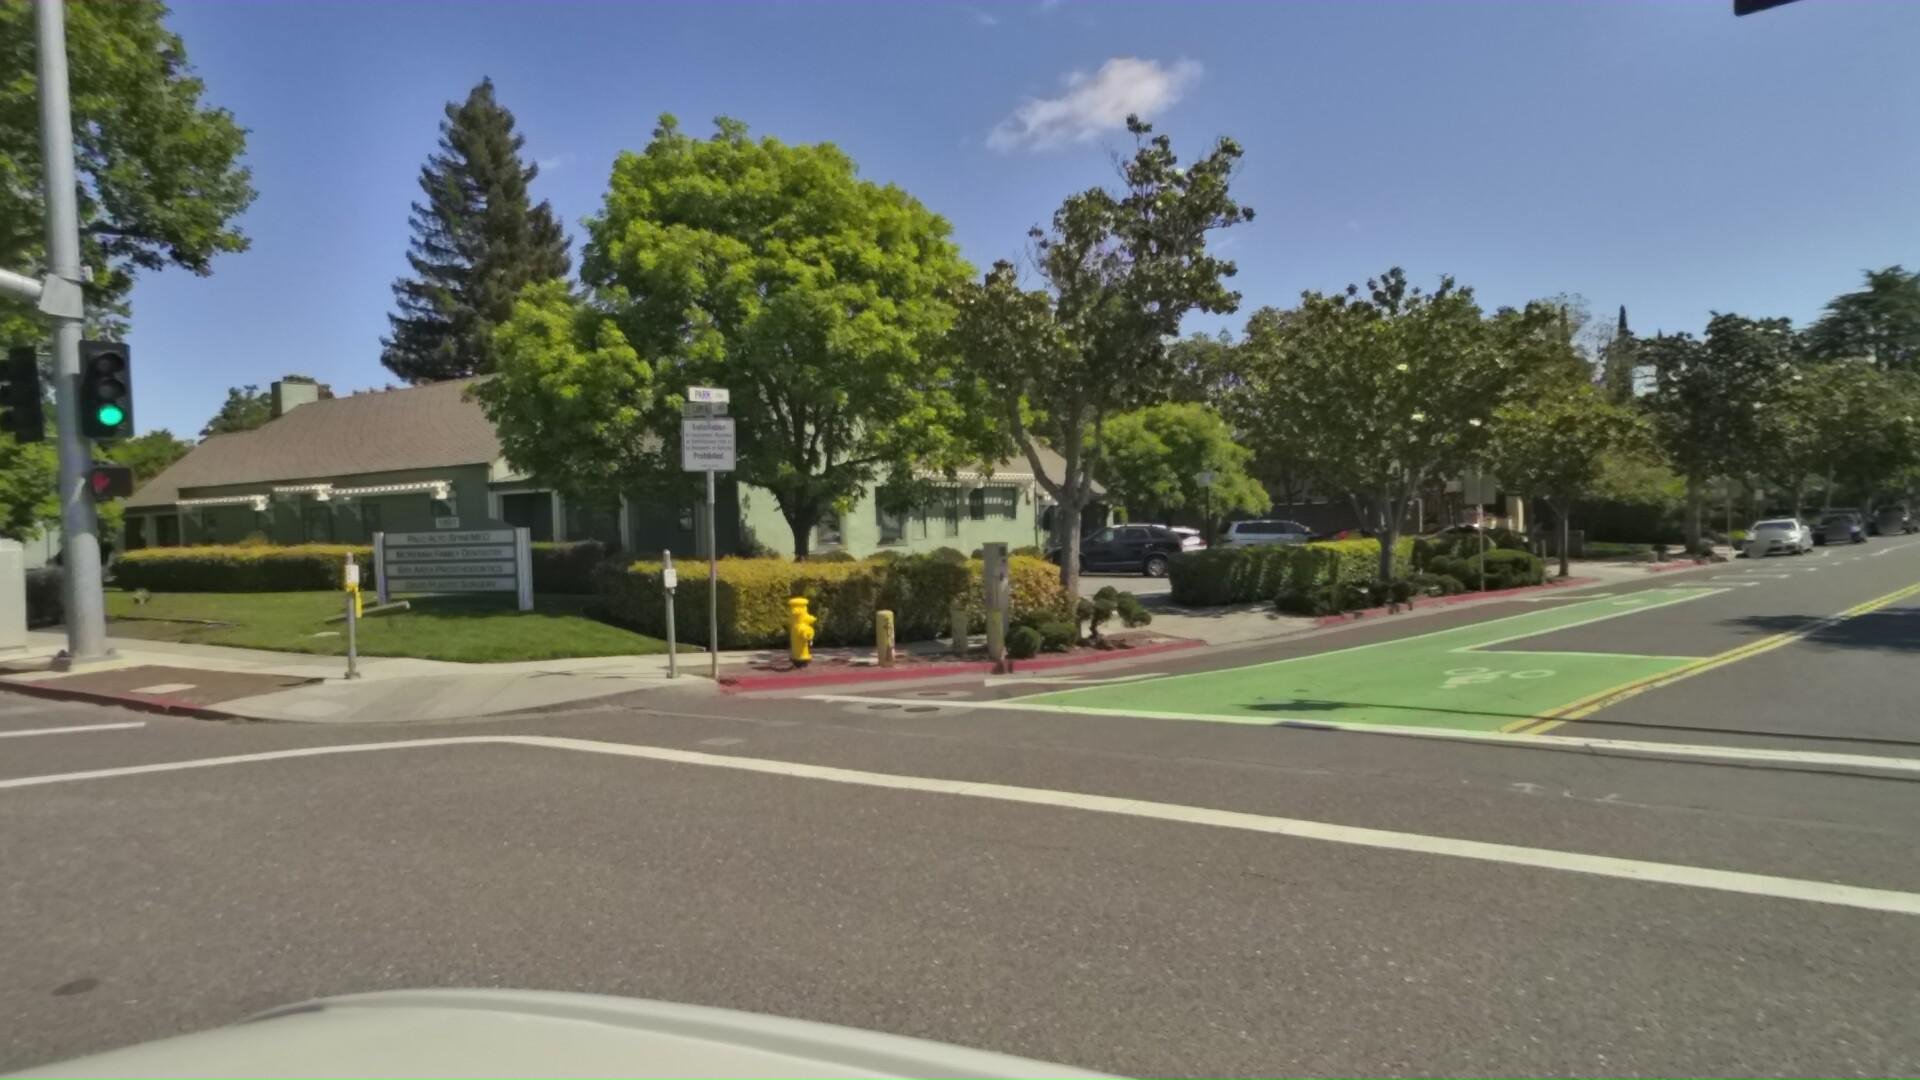car: (1046, 514, 1197, 578), (1075, 516, 1217, 571), (1404, 512, 1551, 556), (1304, 516, 1427, 556), (1741, 506, 1820, 553), (1809, 506, 1873, 545), (1865, 500, 1913, 530)
